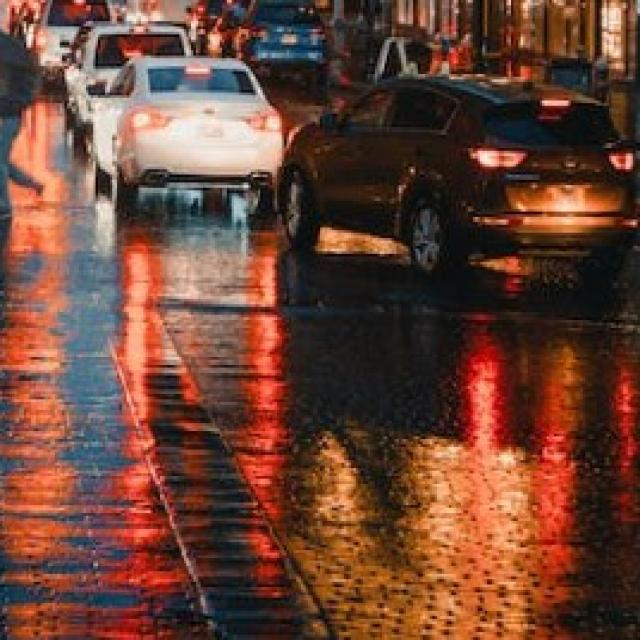bus: (121, 0, 231, 34)
car: (274, 66, 640, 283), (84, 53, 283, 216), (62, 21, 192, 130), (236, 0, 325, 82), (27, 0, 108, 74)
